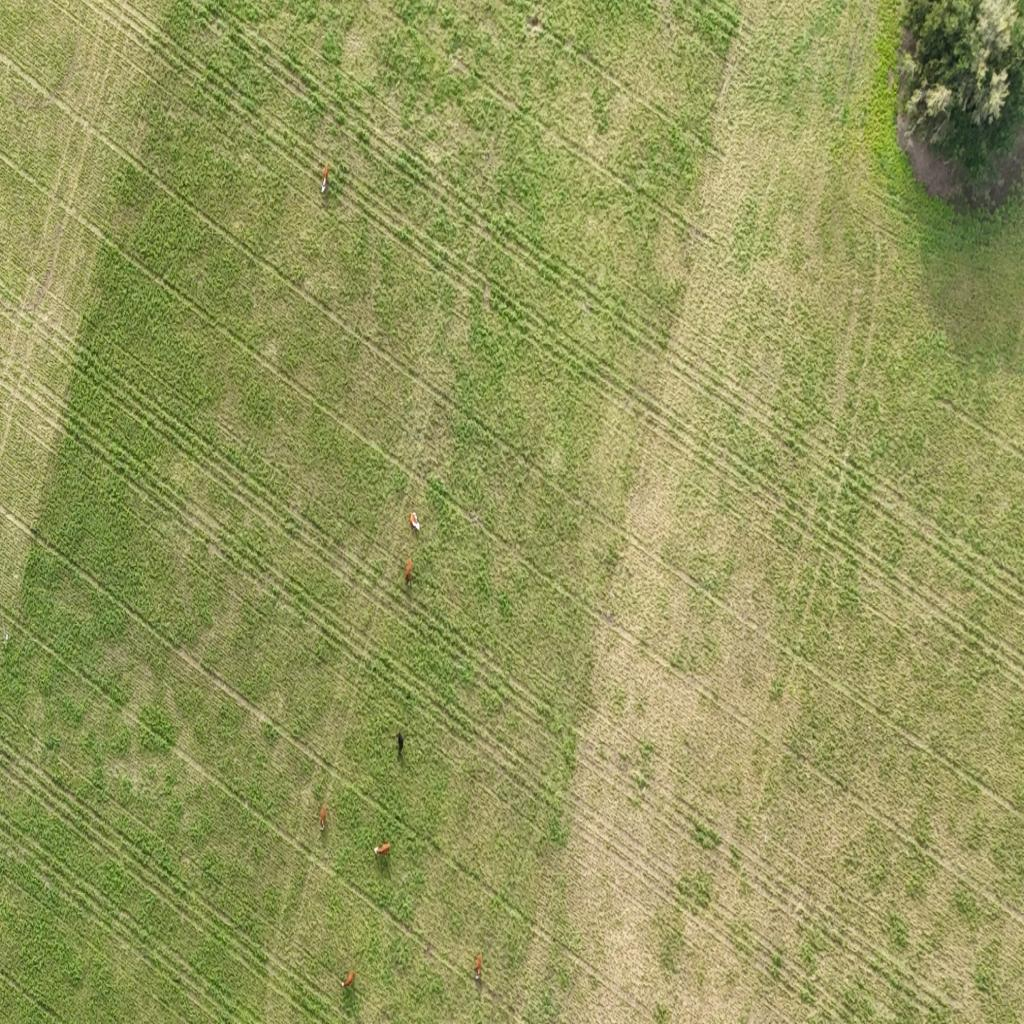cow: (321, 802, 332, 830), (373, 841, 390, 859), (342, 969, 356, 990), (396, 728, 406, 756), (322, 163, 330, 193), (477, 956, 486, 982), (412, 510, 423, 531), (404, 556, 412, 584)
